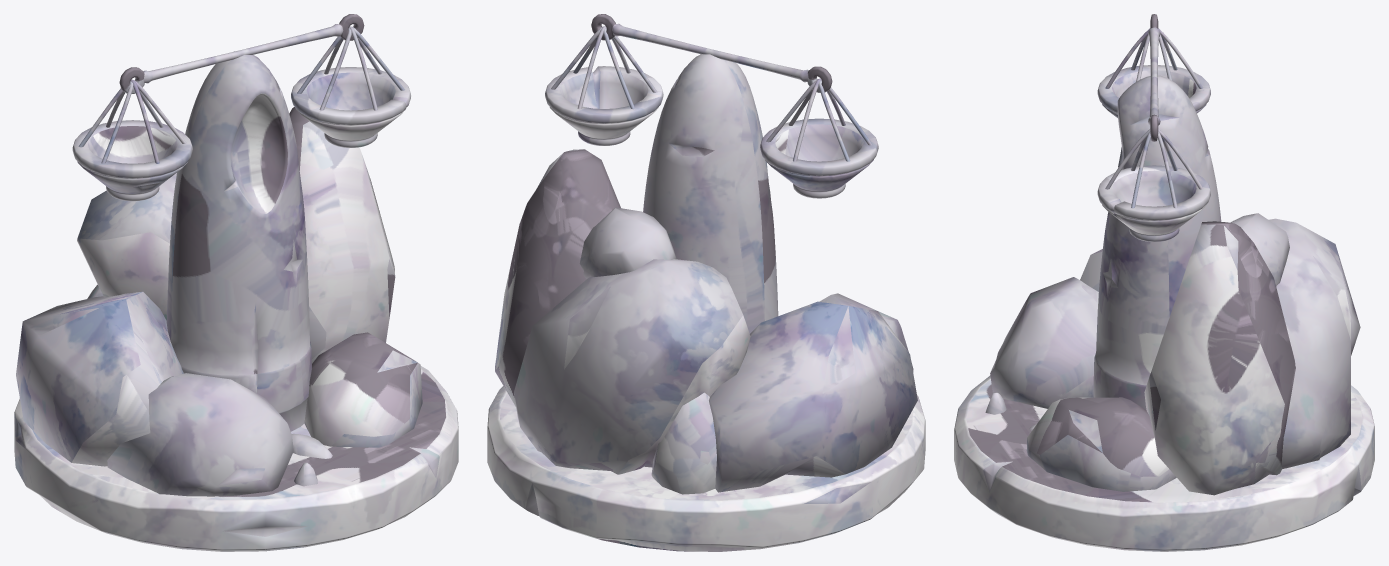
File: NPC_DikeStatue.fbx
3 views of the same model, side by side, from view 1: azimuth 30°, elevation 25°; view 2: azimuth 150°, elevation 25°; view 3: azimuth 270°, elevation 25° (orthographic). The views are drawn at different scales.
Parts seen in each view (by area): view 1: Dike_Statue; view 2: Dike_Statue; view 3: Dike_Statue.
Boxes of the visible parts, bbox=[...] form: Dike_Statue: bbox=[14, 14, 458, 551]; Dike_Statue: bbox=[487, 14, 925, 551]; Dike_Statue: bbox=[954, 14, 1374, 551].
Size of the model in its own units: 3200 by 3376 by 3200.
